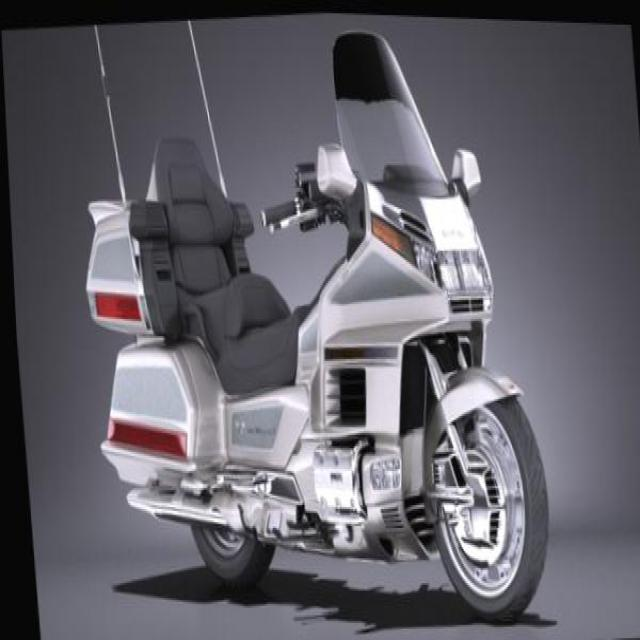Gold Wing: (65, 2, 556, 638)
